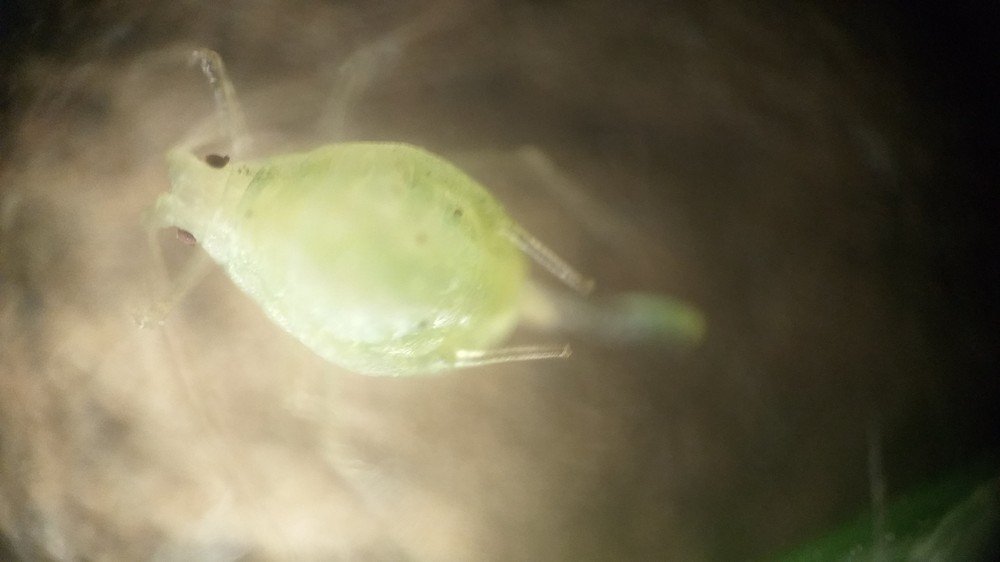Pulgon: (114, 33, 678, 444)
